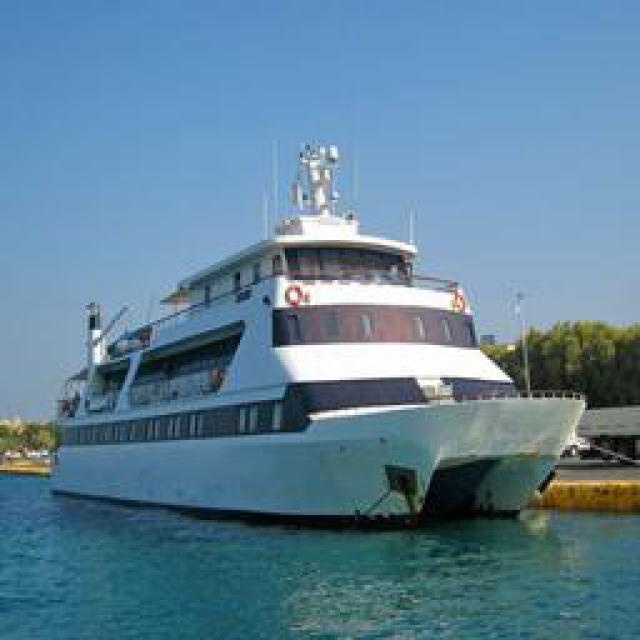Ship: (51, 150, 594, 525)
